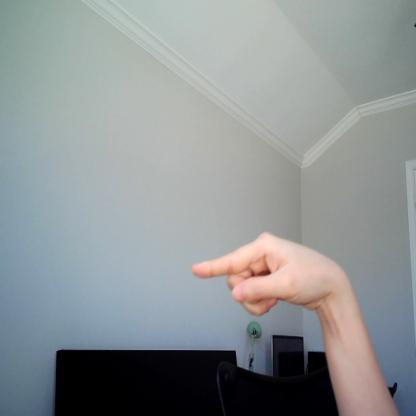G: (186, 226, 321, 315)
